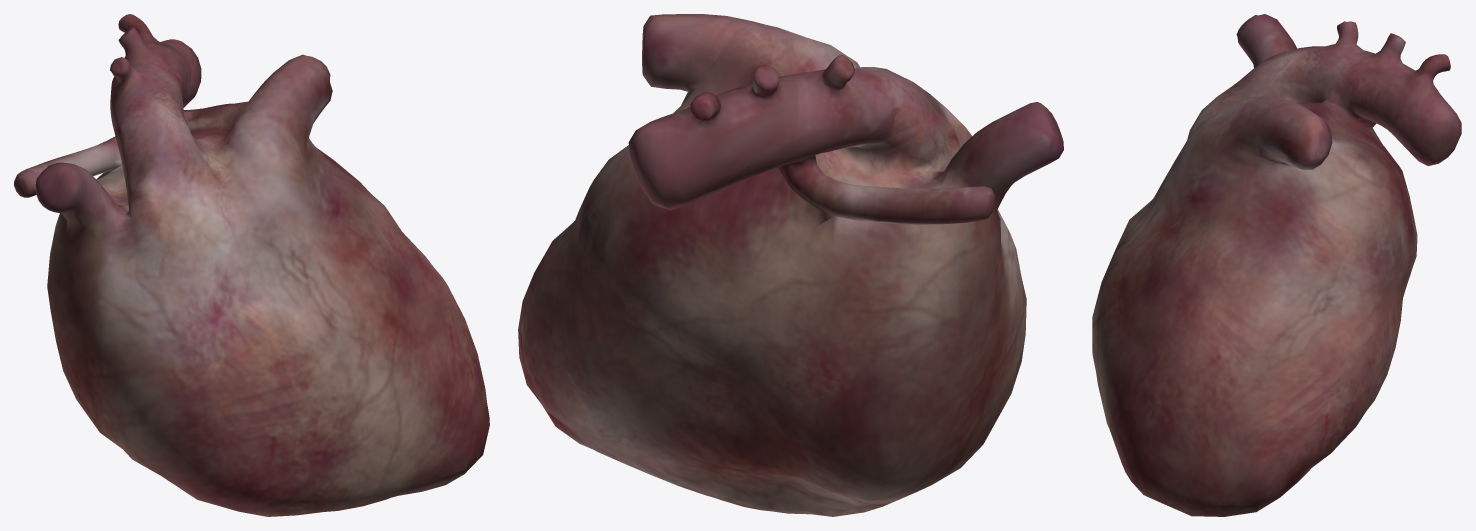
The model's file is Heart.fbx.
3 renders of one model, left to right at view 1: azimuth 30°, elevation 25°; view 2: azimuth 150°, elevation 25°; view 3: azimuth 270°, elevation 25°, orthographic. The views are drawn at different scales.
Visible parts, largest first — view 1: Heart; view 2: Heart; view 3: Heart.
Boxes of the visible parts, box(x1,y1,x2,y2) form: Heart: box(14, 14, 489, 516); Heart: box(518, 14, 1063, 516); Heart: box(1092, 14, 1461, 516).
Bounding box in the file's own units: 1.28 × 1.2 × 1.05.
1 material, 1 textured.
